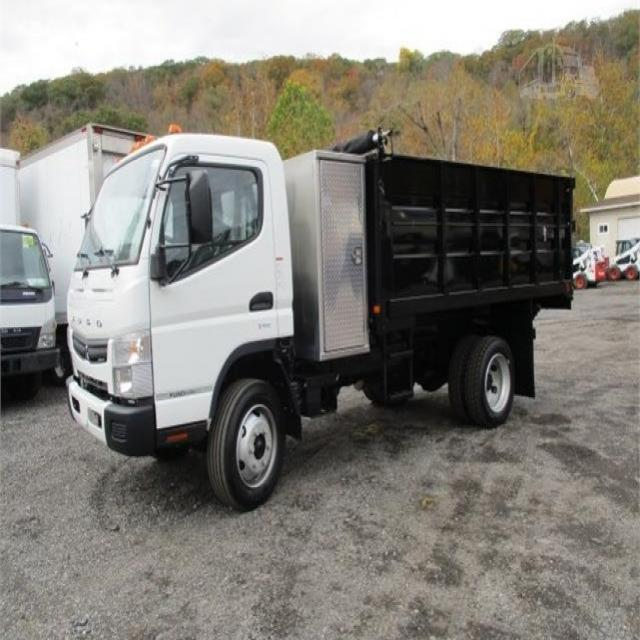Truck: (63, 118, 574, 507)
